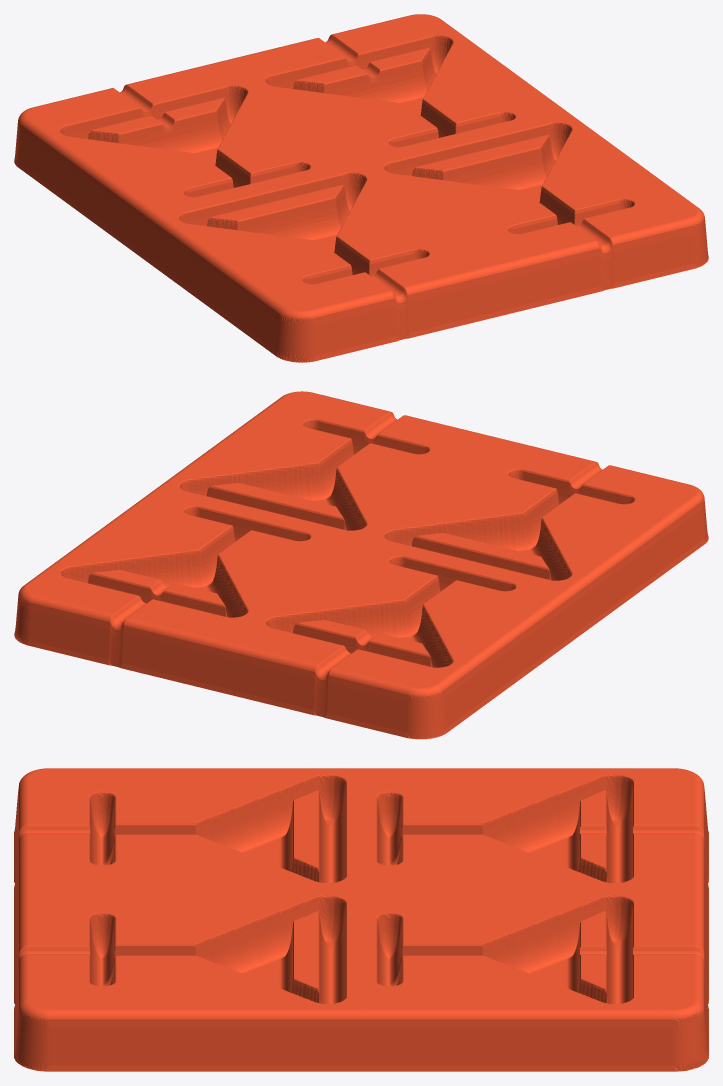
Rendered from mold.glb.
3 renders of one model, top to bottom at view 1: azimuth 30°, elevation 25°; view 2: azimuth 150°, elevation 25°; view 3: azimuth 270°, elevation 25°, orthographic. The views are drawn at different scales.
Parts seen in each view (by area): view 1: geometry_0; view 2: geometry_0; view 3: geometry_0.
Part boxes in pixels (x1,y1,x2,y2): geometry_0: (14, 14, 708, 362); geometry_0: (14, 391, 708, 739); geometry_0: (14, 768, 708, 1071).
Size of the model in its own units: 0.1491 by 0.0155 by 0.1735.
